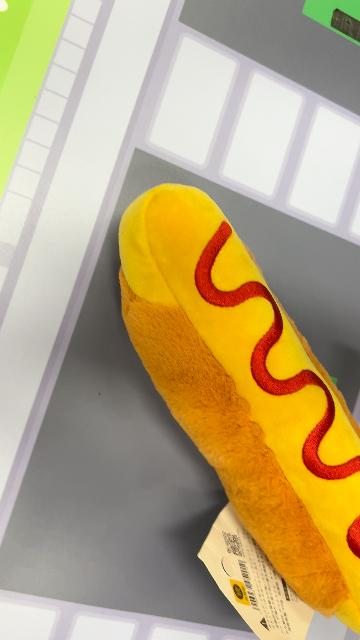hotdog: (117, 182, 359, 634)
